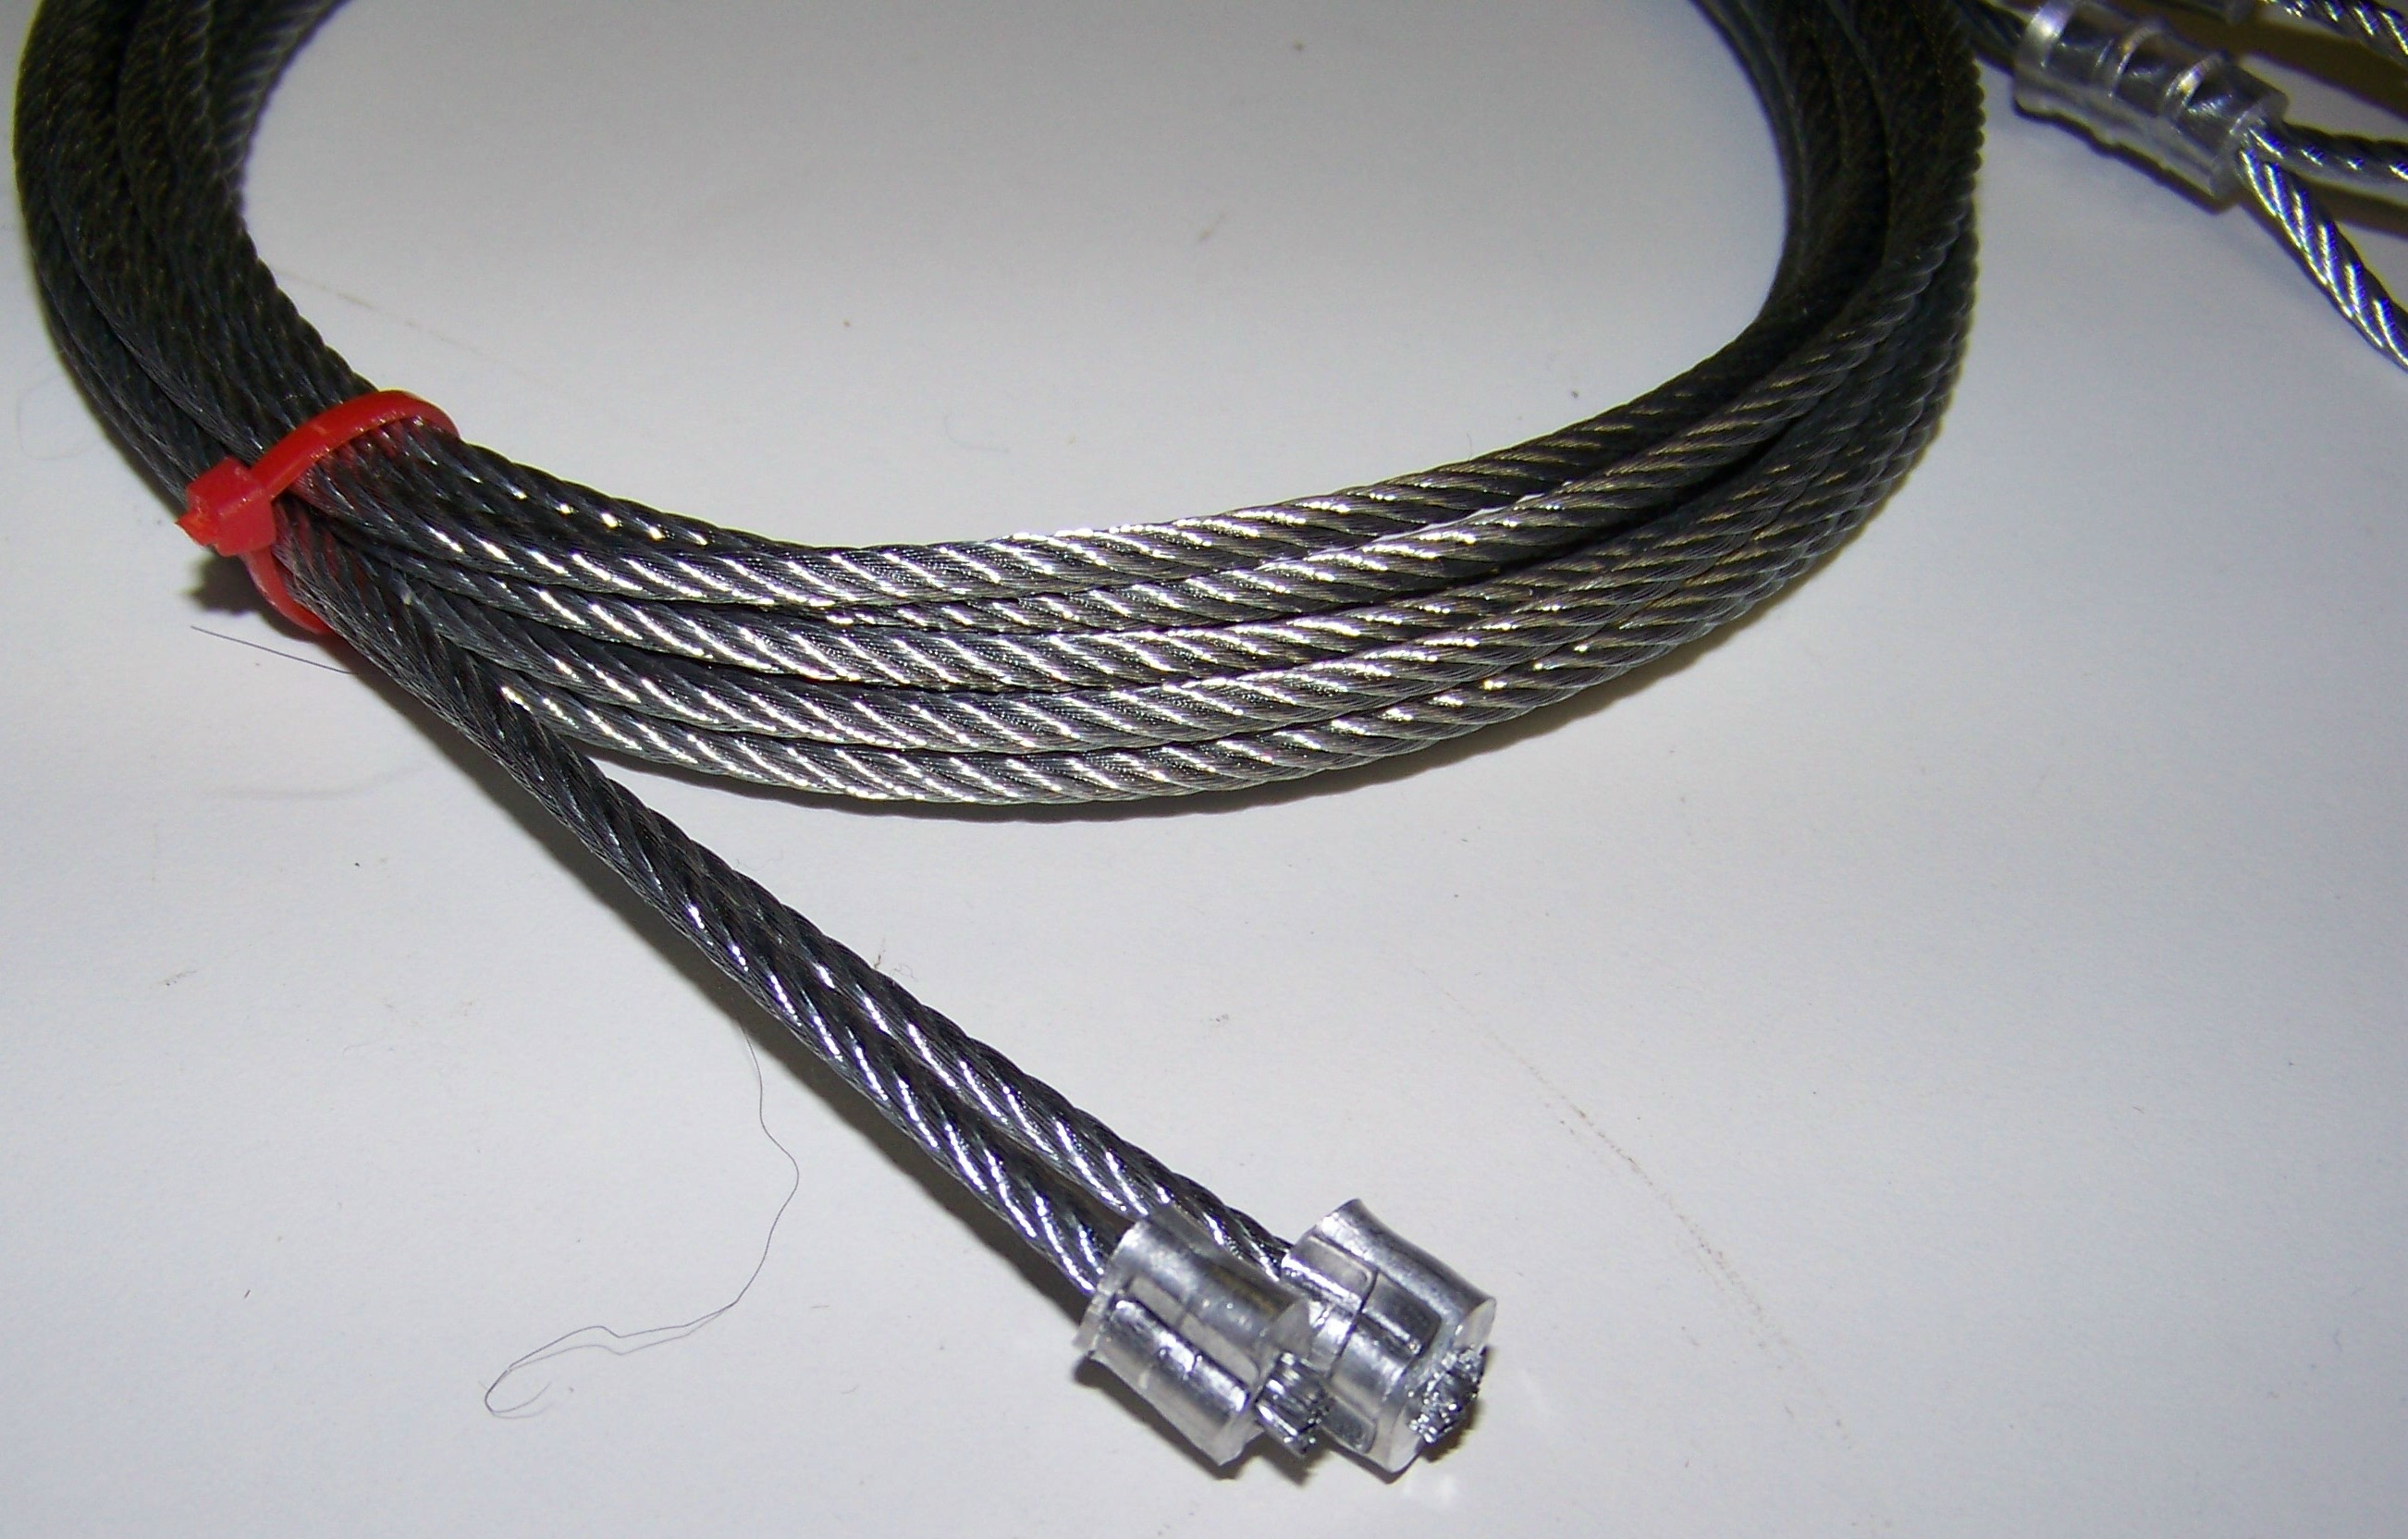Nonrec_Tangler: (58, 2, 2194, 1413)
